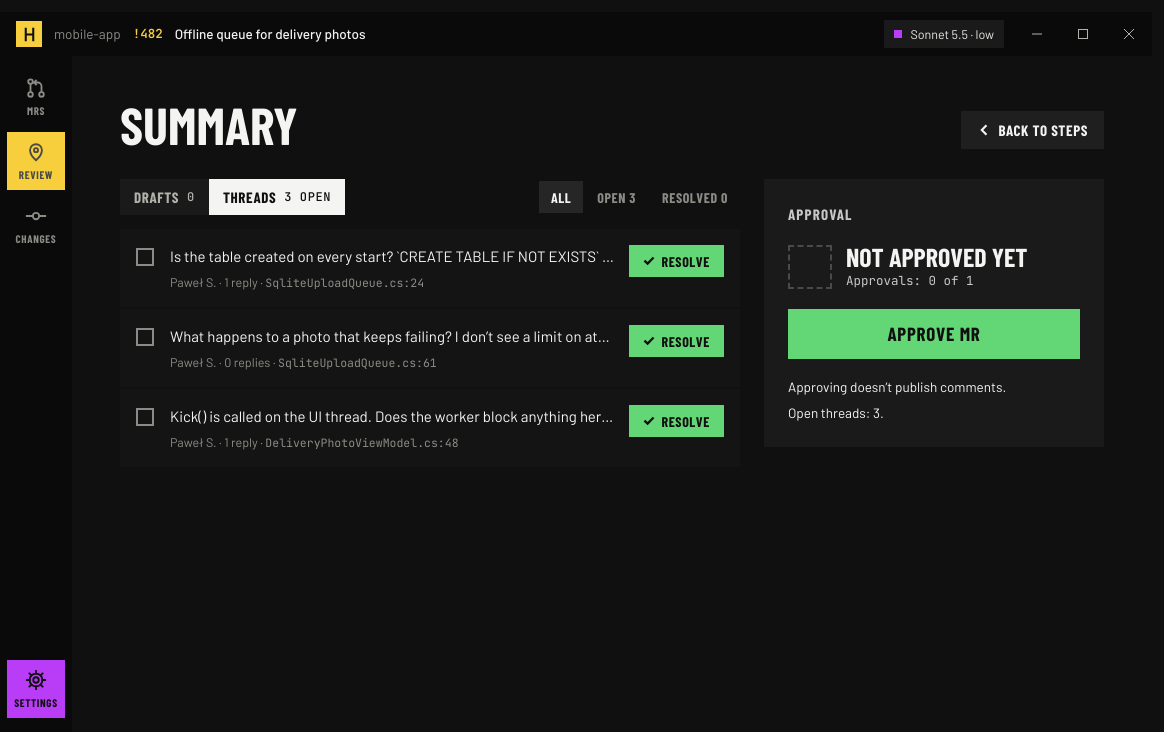
Test: S-05 Drafts list (F-12.3) › F-12.3 a session without drafts says "No drafts yet." on the Drafts tab and lists no row
Click the tab "Drafts 0".
click(164, 197)  # box [120,179,209,215]
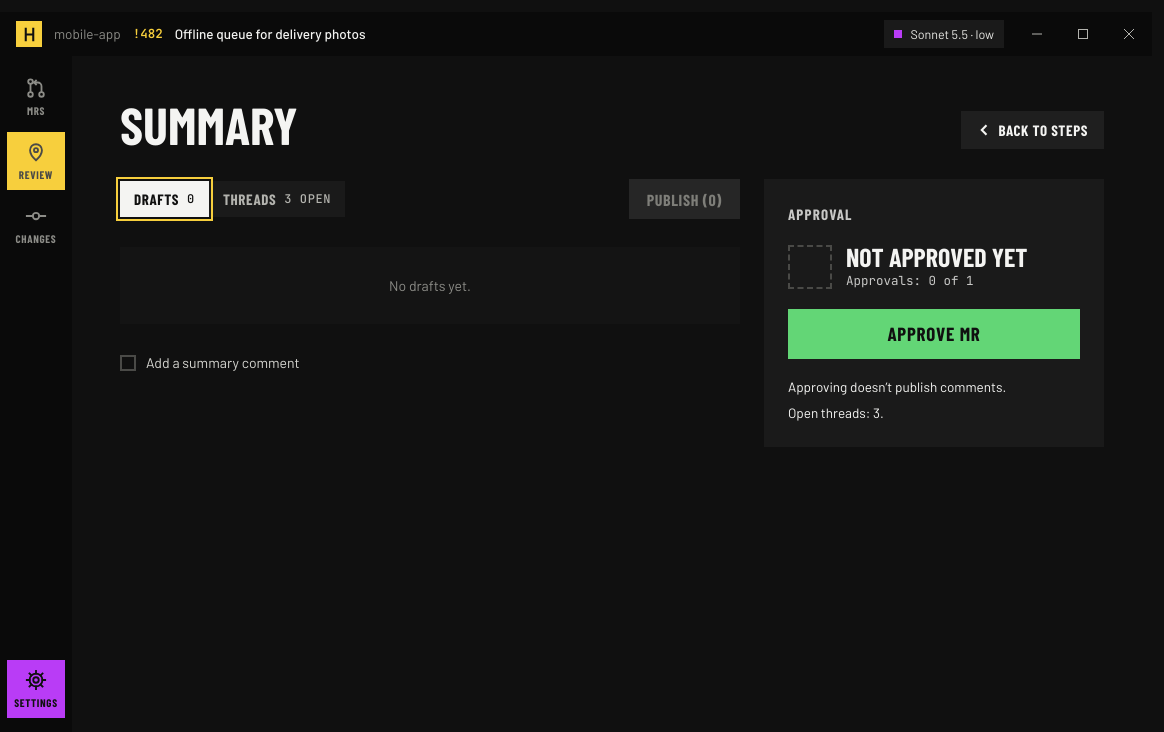
Check: the text "No drafts yet." is shown, box [120,247,740,324]
Check: no list items are shown
